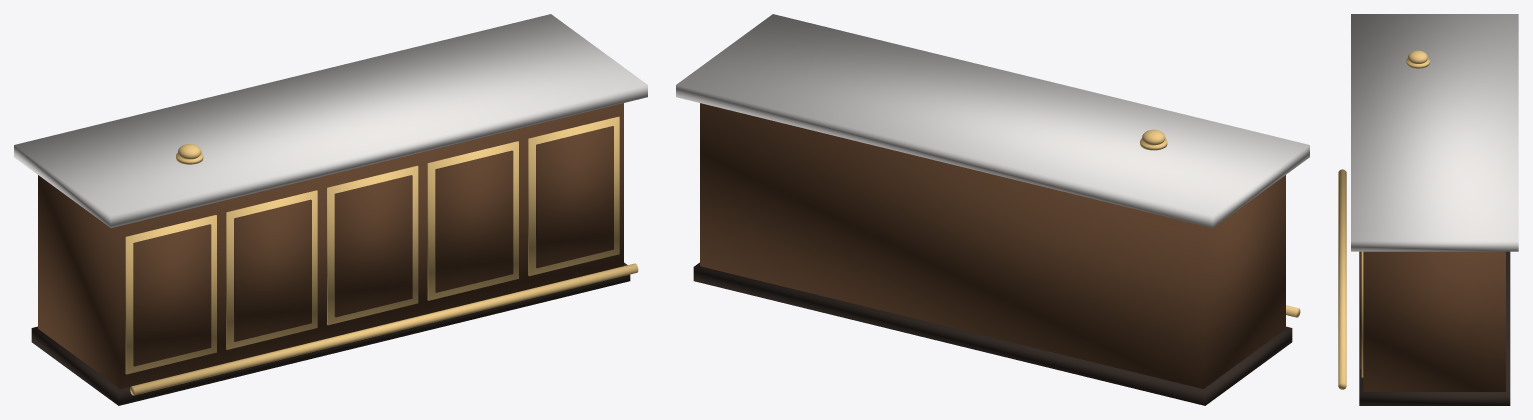
The model's file is desk.glb.
3 views of the same model, side by side, from view 1: azimuth 30°, elevation 25°; view 2: azimuth 150°, elevation 25°; view 3: azimuth 270°, elevation 25° (orthographic). The views are drawn at different scales.
Visible parts, largest first — view 1: top, body, panel.002, panel.003, panel, panel.001, panel.004, plinth, rail, frame.002, frame, frame.003 (+2 smaller); view 2: body, top, plinth; view 3: top, body, plinth, rail, frame.004, panel.004, bell.
Boxes of the visible parts, box(x1,y1,x2,y2) form: top: box(14, 14, 647, 227); body: box(38, 103, 623, 388); panel.002: box(334, 175, 412, 317); panel.003: box(435, 150, 513, 292); panel: box(133, 224, 211, 366); panel.001: box(234, 199, 311, 341); panel.004: box(536, 126, 613, 268); plinth: box(31, 262, 630, 405); rail: box(130, 263, 638, 395); frame.002: box(327, 165, 418, 325); frame: box(125, 215, 216, 374); frame.003: box(427, 141, 518, 300); body: box(700, 103, 1285, 388); top: box(676, 14, 1309, 227); plinth: box(693, 262, 1292, 405); top: box(1351, 14, 1518, 251); body: box(1363, 251, 1505, 391); plinth: box(1359, 251, 1510, 405); rail: box(1338, 169, 1346, 389); frame.004: box(1361, 251, 1363, 377); panel.004: box(1360, 251, 1361, 368); bell: box(1408, 50, 1427, 63).
Size of what is drawn, in the model's own units: 3.2 by 1.2 by 1.08.
